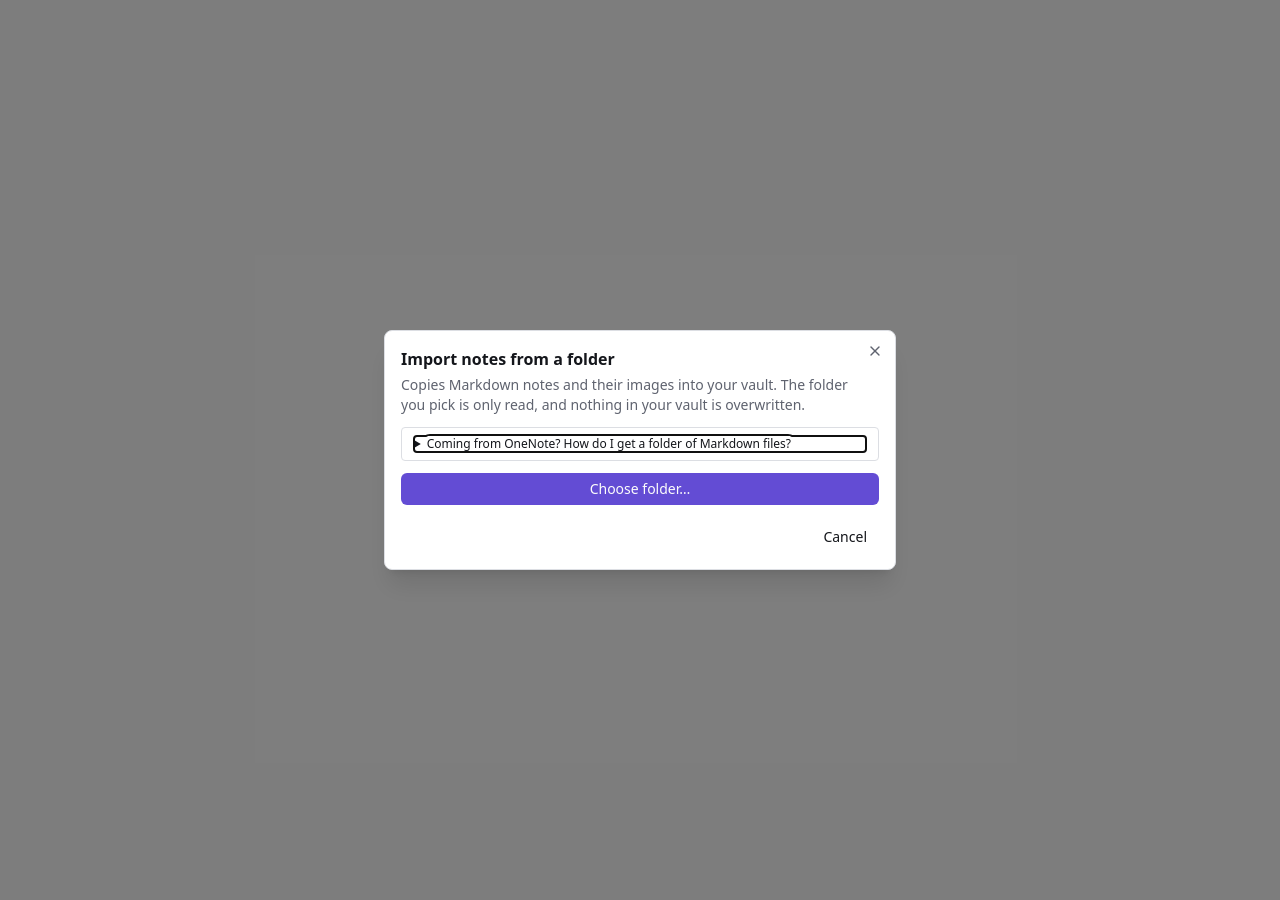
Test: ImportDialog › explains an empty folder
Click the button "Choose folder…".
click(640, 489)  # box x1=401 y1=473 x2=879 y2=505
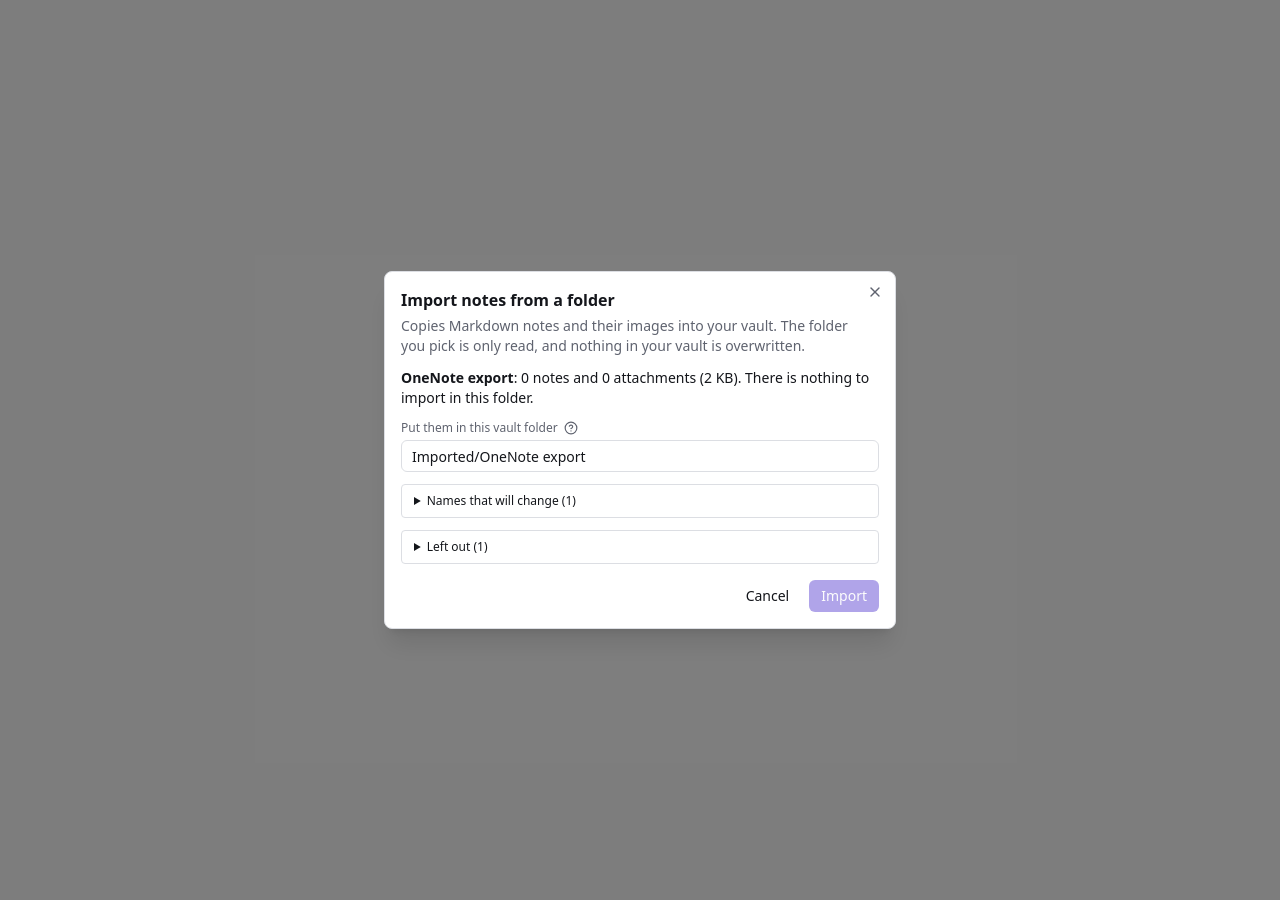
expect the text "nothing to import" is shown: met, box x1=401 y1=368 x2=869 y2=407
expect the button "Import" is disabled: met, box x1=809 y1=580 x2=879 y2=612
